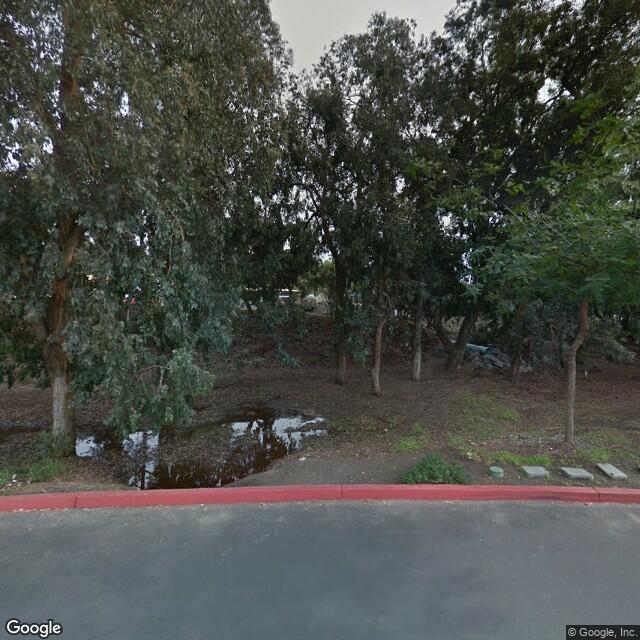litter: (8, 473, 18, 487), (381, 498, 395, 505), (195, 501, 207, 508), (444, 499, 457, 505), (13, 509, 28, 514), (296, 454, 308, 460), (584, 501, 596, 506)
